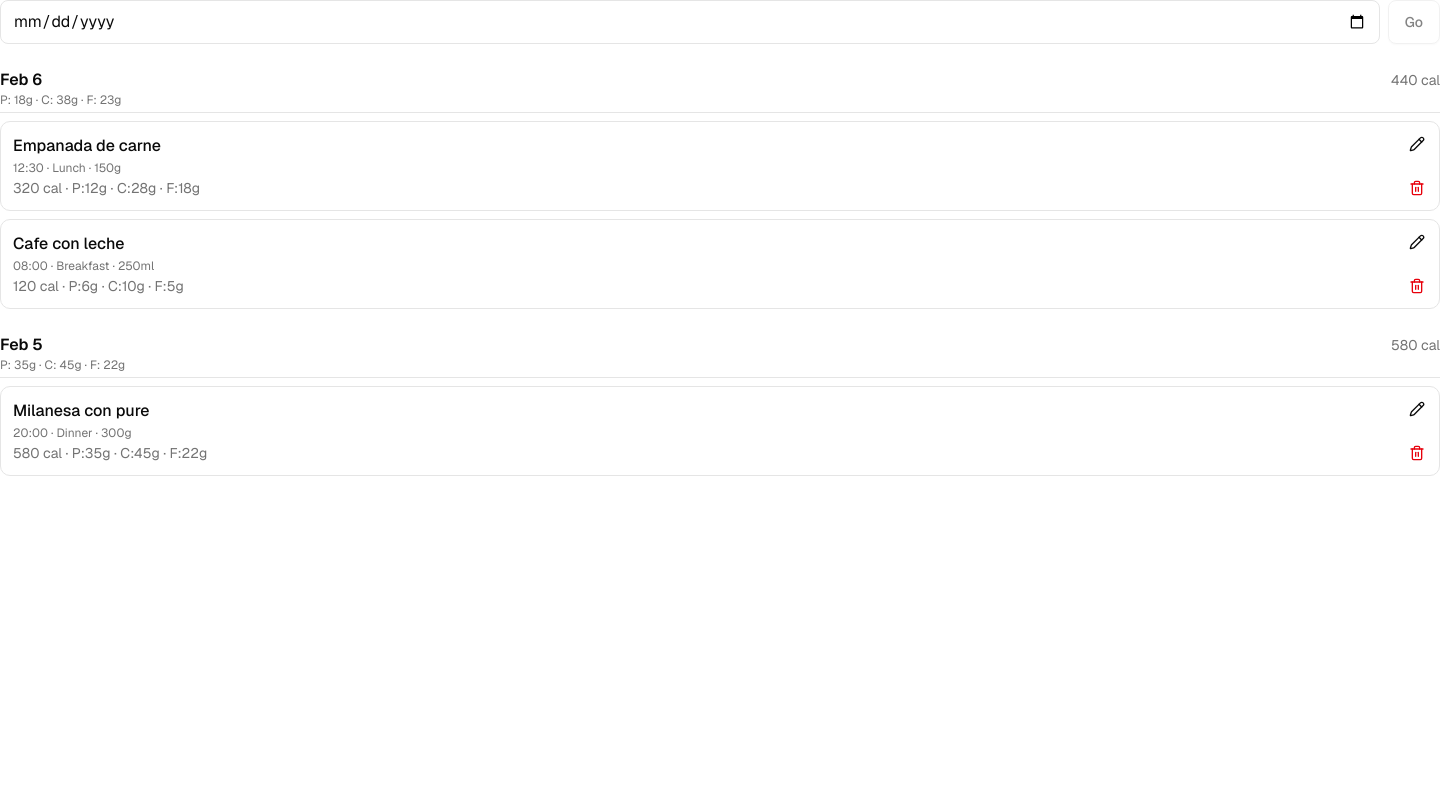
FoodHistory › delete AlertDialog cancel button dismisses without deleting
The image size is (1440, 810).
Expected: the text "Empanada de carne" is shown, left=13, top=135, right=161, bottom=156
Click delete button to open AlertDialog
Click the button named "delete": coordinates (1417, 188) left=1395, top=166, right=1439, bottom=210
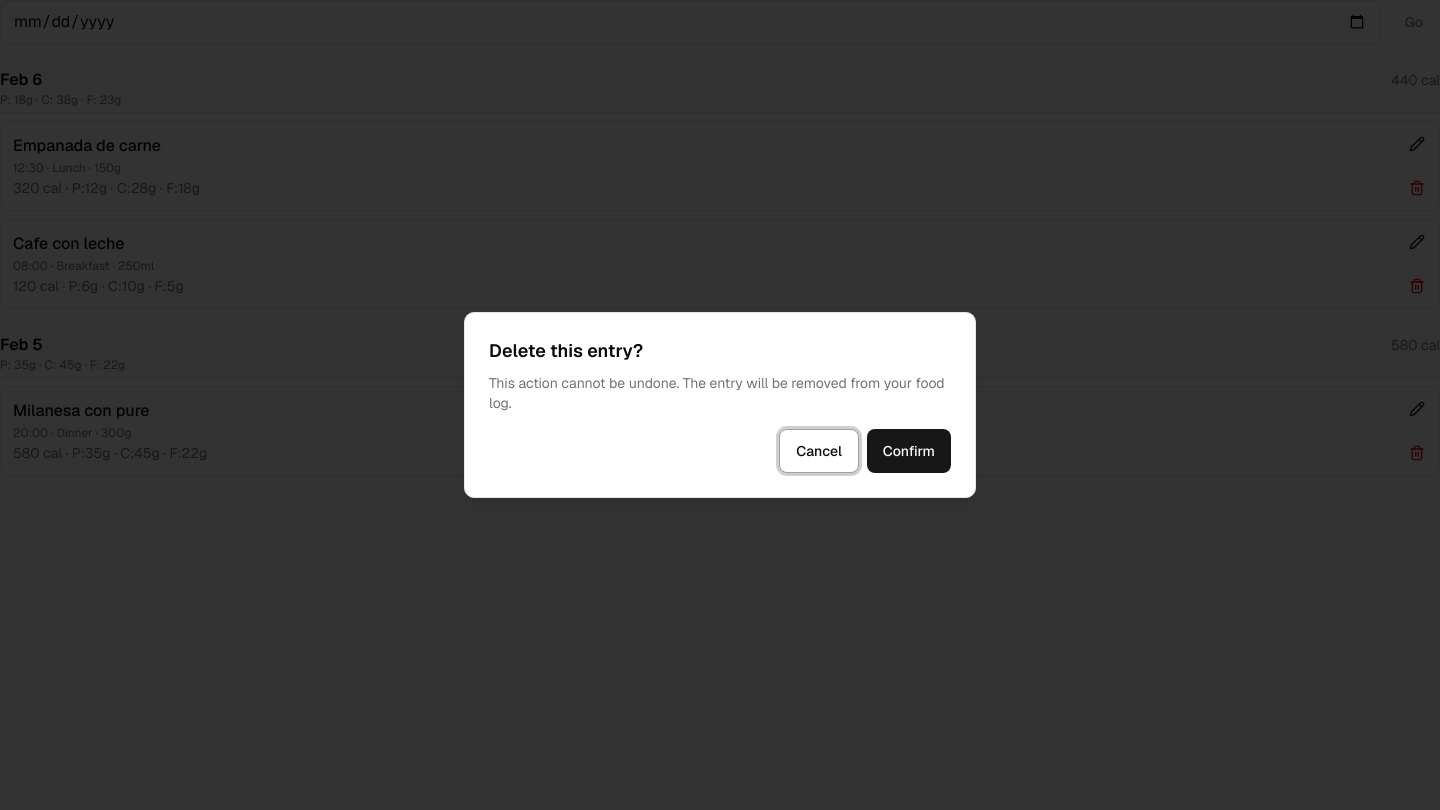
Now the dialog is shown, box left=464, top=312, right=976, bottom=498
Click cancel
Click the button "Cancel": coordinates (819, 451) left=779, top=429, right=859, bottom=473
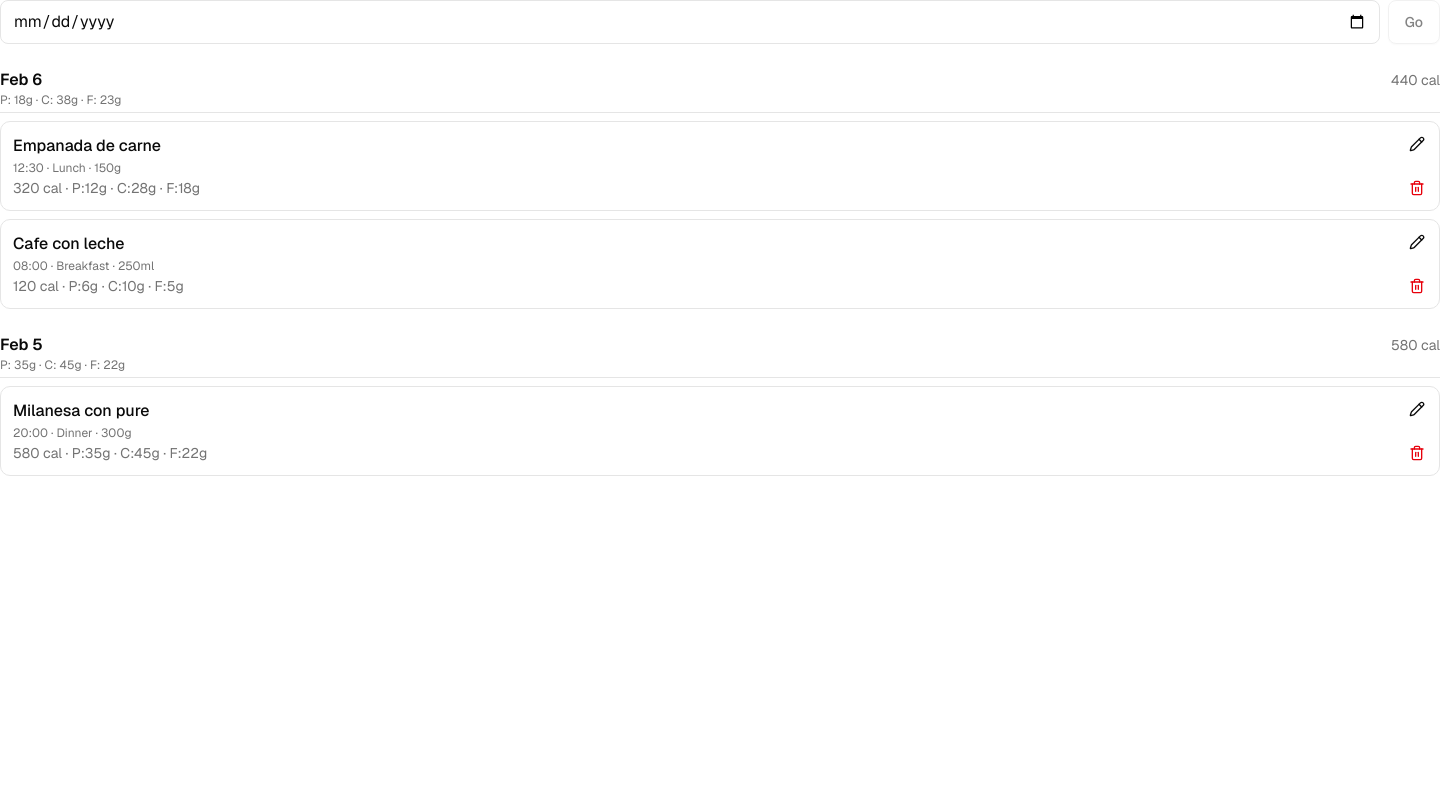
Expected: the text "Empanada de carne" is shown, left=13, top=135, right=161, bottom=156
Now the dialog is gone
